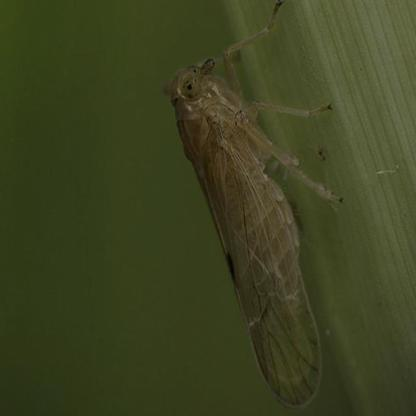brown-planthopper: (163, 0, 338, 409)
